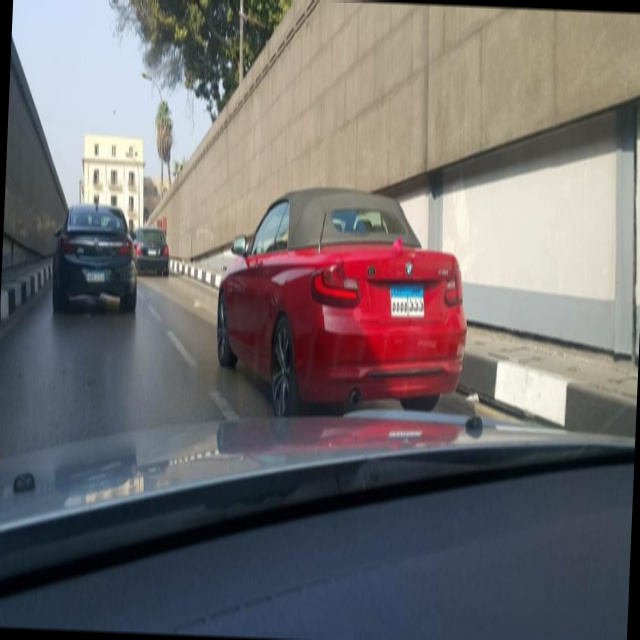License Plate: (389, 281, 427, 320), (86, 265, 105, 284)
